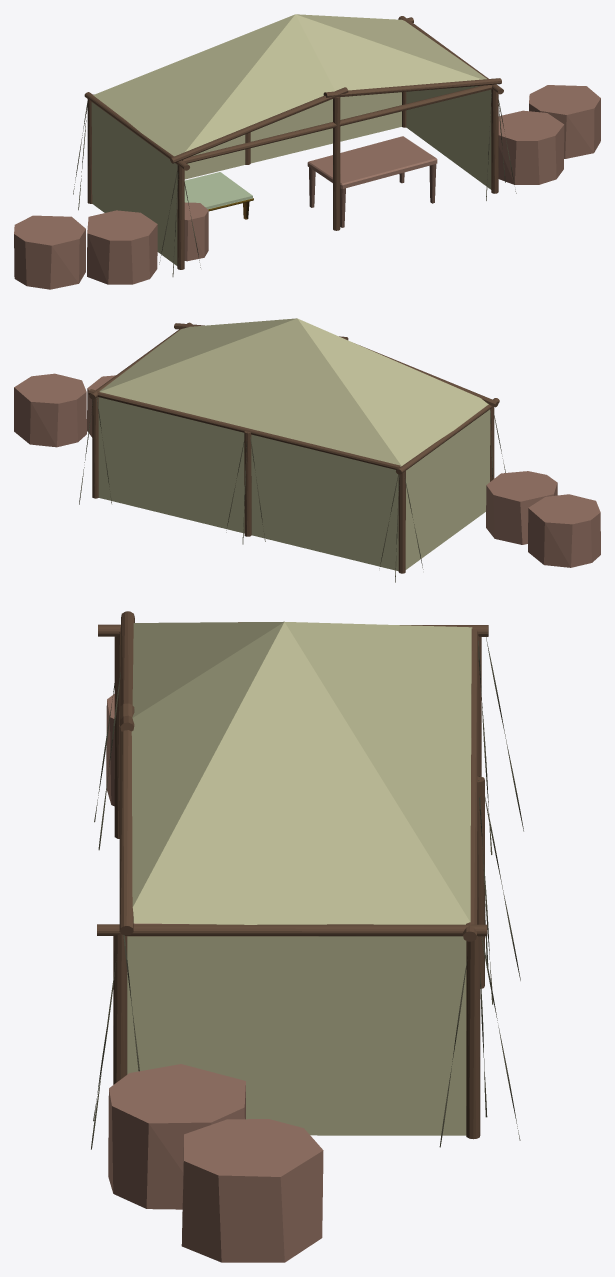
File: Barraca-V1.fbx
3 renders of one model, top to bottom at view 1: azimuth 30°, elevation 25°; view 2: azimuth 150°, elevation 25°; view 3: azimuth 270°, elevation 25°, orthographic. The views are drawn at different scales.
Parts seen in each view (by area): view 1: cabanatecido, cabanamadeira, Cylinder.004, Cylinder.002, Cylinder.001, Mesaplano, Cylinder.003, camacolchão, Cylinder.005, LINHA.001, mesapes; view 2: cabanatecido, cabanamadeira, Cylinder.004, Cylinder.003, Cylinder.002, LINHA.001, Cylinder.001; view 3: cabanatecido, cabanamadeira, Cylinder.003, Cylinder.001, LINHA.001, Cylinder.002.
Boxes of the visible parts, x1,y1,x2,y2 form: cabanatecido: [91, 14, 491, 265]; cabanamadeira: [84, 16, 503, 269]; Cylinder.004: [14, 215, 85, 289]; Cylinder.002: [87, 210, 157, 284]; Cylinder.001: [498, 110, 564, 184]; Mesaplano: [307, 136, 437, 188]; Cylinder.003: [529, 85, 600, 158]; camacolchão: [184, 172, 253, 209]; Cylinder.005: [184, 202, 208, 261]; LINHA.001: [73, 92, 516, 276]; mesapes: [309, 164, 436, 227]; cabanatecido: [98, 318, 490, 571]; cabanamadeira: [88, 322, 499, 573]; Cylinder.004: [528, 494, 600, 567]; Cylinder.003: [14, 373, 86, 447]; Cylinder.002: [486, 471, 557, 544]; LINHA.001: [79, 397, 505, 582]; Cylinder.001: [87, 375, 115, 437]; cabanatecido: [127, 621, 472, 1135]; cabanamadeira: [97, 611, 488, 1139]; Cylinder.003: [181, 1119, 323, 1262]; Cylinder.001: [108, 1064, 245, 1209]; LINHA.001: [91, 637, 523, 1149]; Cylinder.002: [106, 694, 114, 806].
Size of the model in its own units: 370 by 113 by 122.
